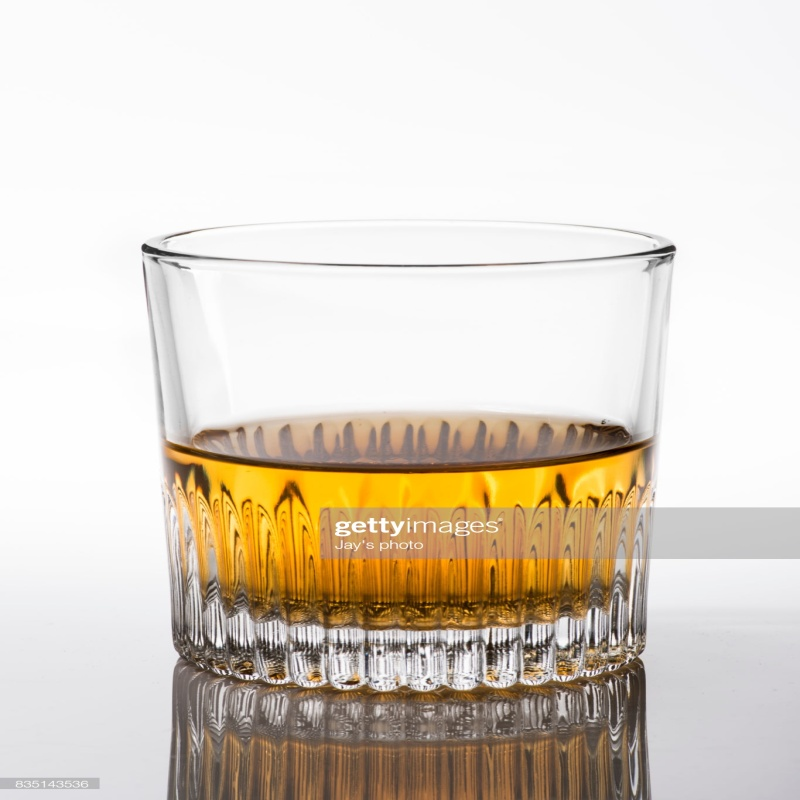whiskey: (138, 224, 666, 681)
